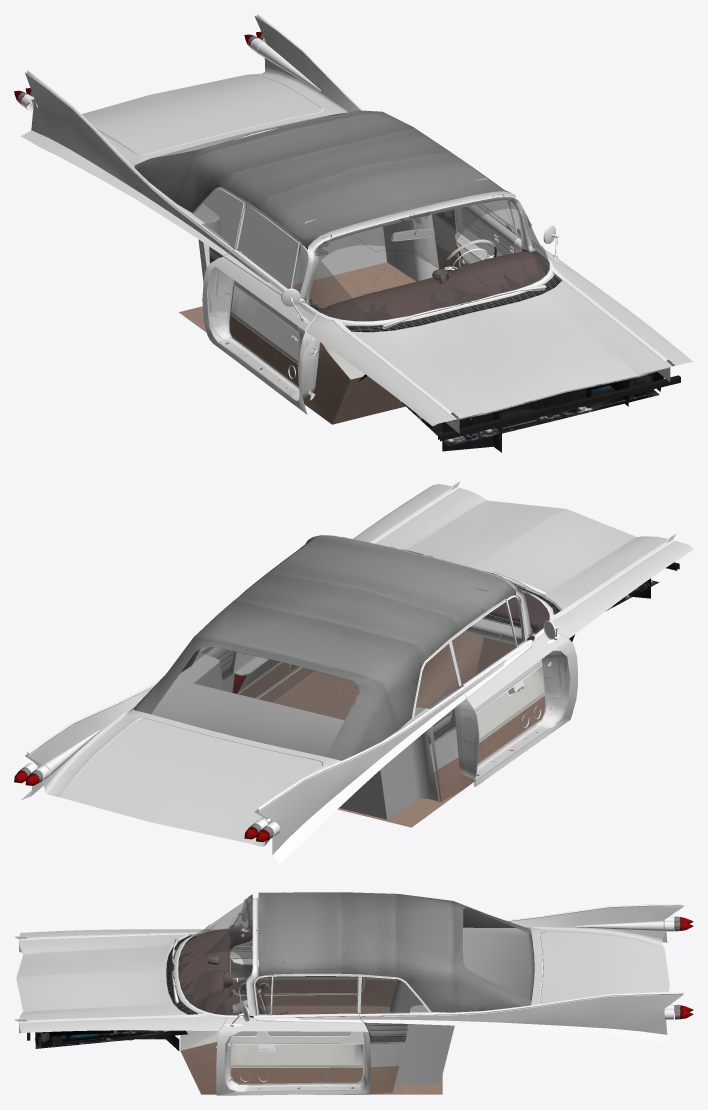
File: cadillac_eldorado_cockpit.glb
The picture shows the model from 3 angles, top to bottom: view 1: azimuth 30°, elevation 25°; view 2: azimuth 150°, elevation 25°; view 3: azimuth 270°, elevation 25°; orthographic projection. The views are drawn at different scales.
Visible parts, largest first — view 1: Object_3, Object_2, Object_9, Object_6, Object_8, Object_5; view 2: Object_3, Object_2, Object_9, Object_6, Object_8, Object_5; view 3: Object_3, Object_2, Object_9, Object_6, Object_8, Object_5.
Part boxes in pixels (x1=…): Object_3: x1=25, y1=15, x2=693, y2=433; Object_2: x1=17, y1=34, x2=680, y2=452; Object_9: x1=179, y1=178, x2=549, y2=424; Object_6: x1=154, y1=112, x2=549, y2=321; Object_8: x1=21, y1=14, x2=559, y2=378; Object_5: x1=332, y1=229, x2=675, y2=419; Object_3: x1=25, y1=484, x2=693, y2=854; Object_2: x1=19, y1=535, x2=679, y2=838; Object_9: x1=194, y1=546, x2=549, y2=827; Object_6: x1=151, y1=537, x2=549, y2=756; Object_8: x1=21, y1=535, x2=559, y2=863; Object_5: x1=370, y1=481, x2=675, y2=638; Object_3: x1=16, y1=905, x2=683, y2=1095; Object_2: x1=27, y1=892, x2=680, y2=1050; Object_9: x1=178, y1=892, x2=454, y2=1094; Object_6: x1=178, y1=894, x2=534, y2=1015; Object_8: x1=172, y1=895, x2=681, y2=1081; Object_5: x1=14, y1=909, x2=247, y2=1022.
Bounding box in the file's own units: 2021 × 1141 × 5458.
8 materials, 6 textured.
